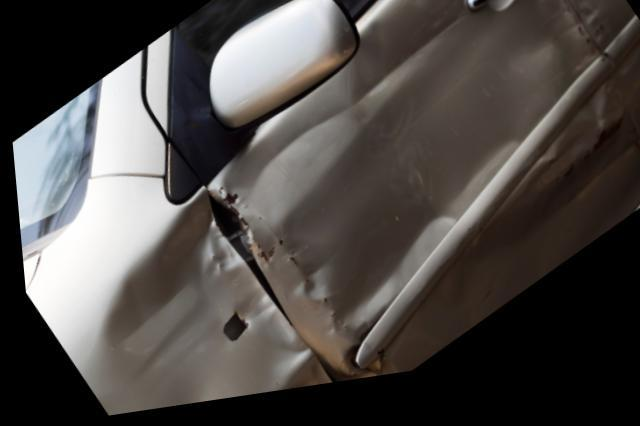dent: (225, 0, 612, 335), (379, 151, 639, 384), (77, 193, 322, 418)
